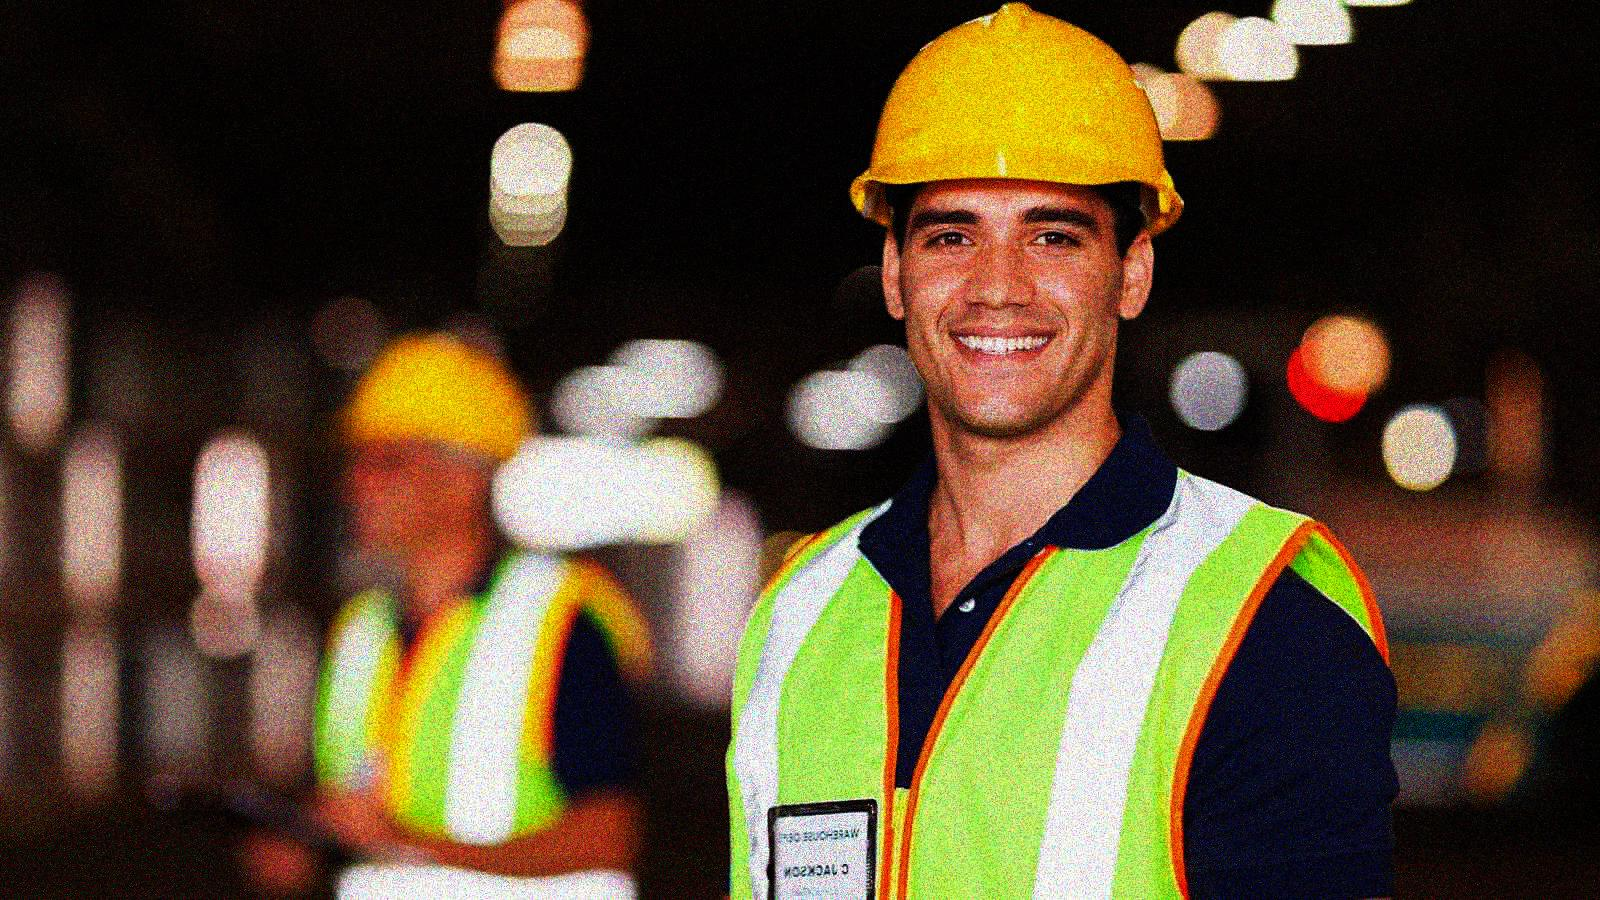helmet: (845, 2, 1184, 419)
